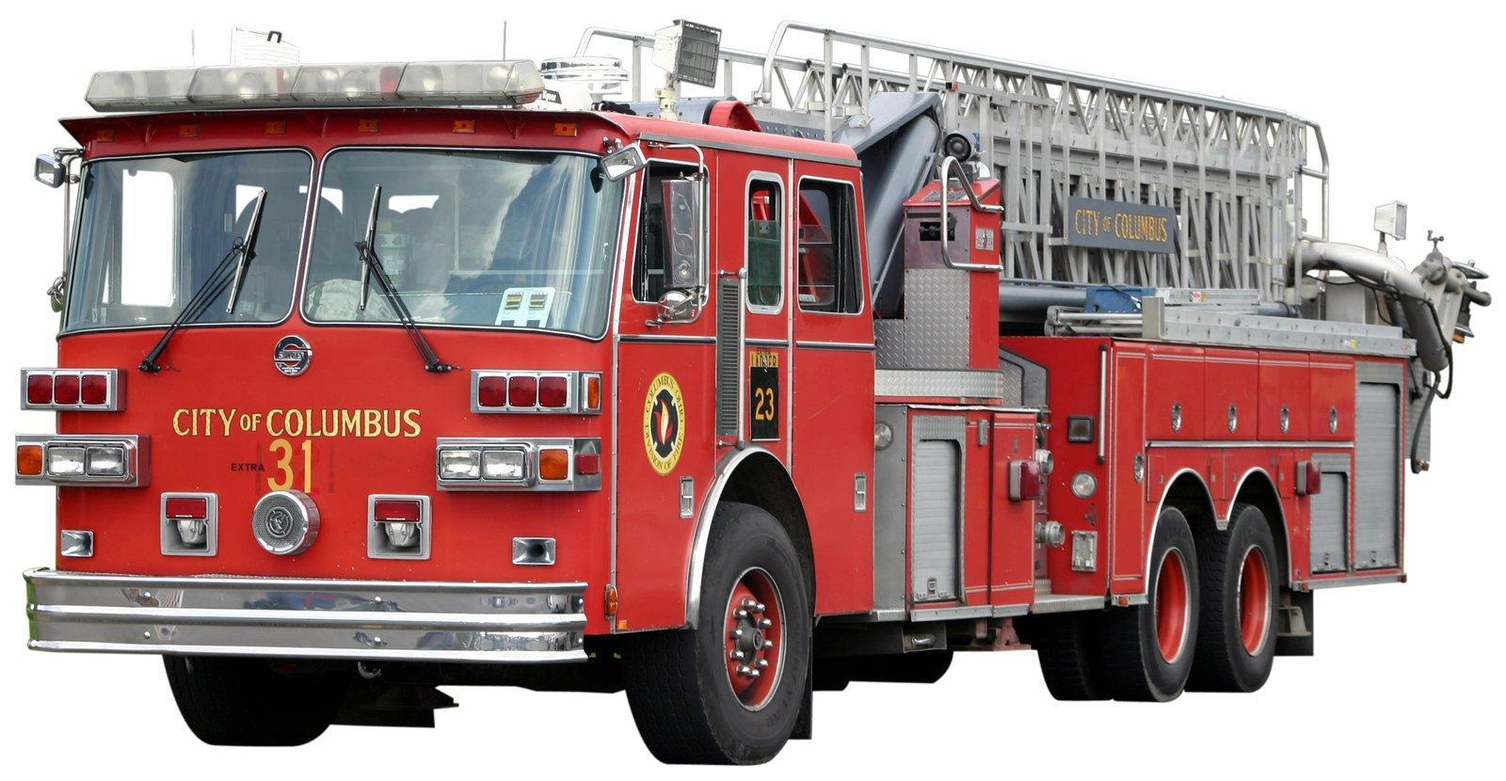Fire-engine: (12, 31, 1429, 764)
